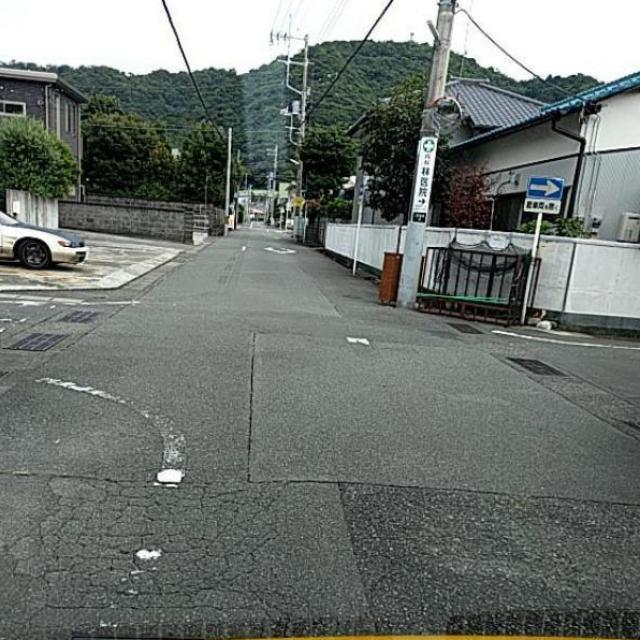Retak Buaya: (51, 484, 270, 612)
Sambungan: (340, 485, 640, 631), (219, 326, 266, 488)
